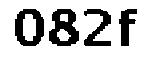0: (13, 6, 46, 51)
2: (82, 6, 113, 51)
8: (46, 3, 81, 50)
f: (117, 6, 143, 49)
